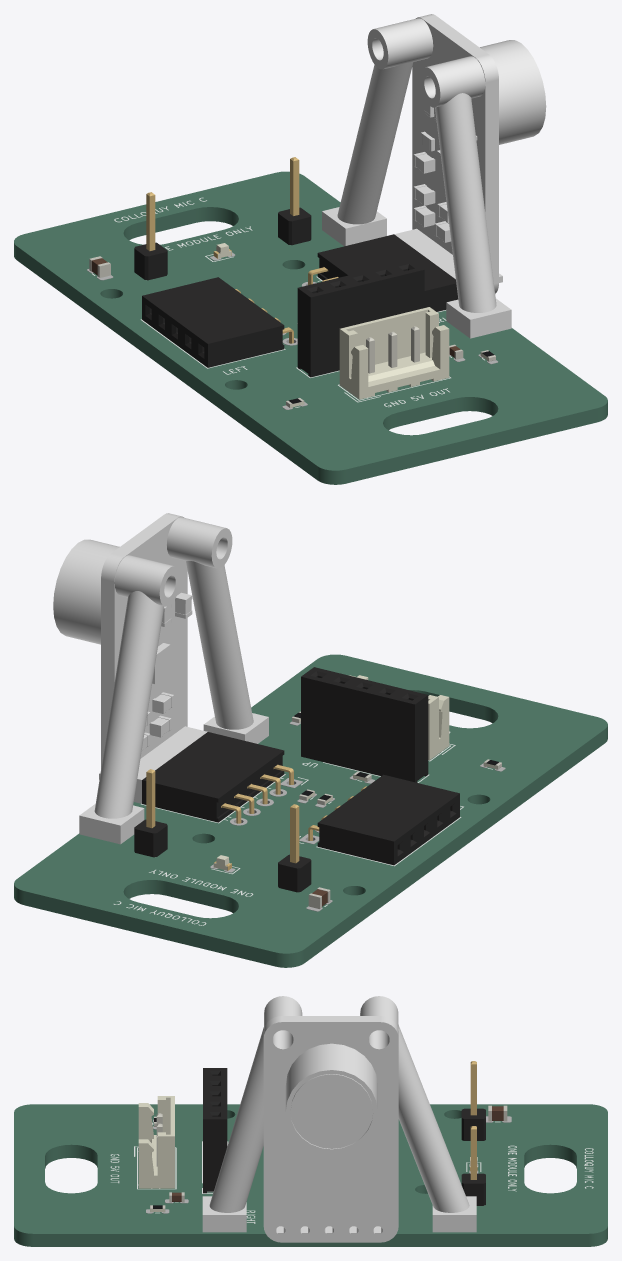
File: microphone-flex-right.glb
The picture shows the model from 3 angles, top to bottom: view 1: azimuth 30°, elevation 25°; view 2: azimuth 150°, elevation 25°; view 3: azimuth 270°, elevation 25°; orthographic projection. The views are drawn at different scales.
Visible parts, largest first — view 1: =>[0:1:1:14], VISUAL_MODULE_RIGHT (×2), J2, M1, J1, J3, TP2, TP1, =>[0:1:1:13]; view 2: =>[0:1:1:14], VISUAL_MODULE_RIGHT (×2), M1, J3, J2, TP2, TP1, J1, =>[0:1:1:13], =>[0:1:1:12]; view 3: =>[0:1:1:14], VISUAL_MODULE_RIGHT (×2), J1, M1, TP2, =>[0:1:1:13], TP1.
Boxes of the visible parts, <box> form: =>[0:1:1:14]: <box>14,171,607,484</box>; VISUAL_MODULE_RIGHT (×2): <box>322,14,546,338</box>; J2: <box>142,277,293,367</box>; M1: <box>297,260,424,377</box>; J1: <box>339,307,449,399</box>; J3: <box>308,234,458,311</box>; TP2: <box>134,192,167,280</box>; TP1: <box>278,157,311,245</box>; =>[0:1:1:13]: <box>92,197,484,407</box>; =>[0:1:1:14]: <box>14,654,607,967</box>; VISUAL_MODULE_RIGHT (×2): <box>53,513,268,844</box>; M1: <box>301,667,428,782</box>; J3: <box>142,732,293,823</box>; J2: <box>308,774,459,865</box>; TP2: <box>278,804,311,892</box>; TP1: <box>134,769,167,857</box>; J1: <box>349,675,449,760</box>; =>[0:1:1:13]: <box>113,731,492,925</box>; =>[0:1:1:12]: <box>210,721,505,911</box>; =>[0:1:1:14]: <box>14,1104,607,1246</box>; VISUAL_MODULE_RIGHT (×2): <box>202,996,476,1242</box>; J1: <box>138,1096,174,1188</box>; M1: <box>203,1068,227,1193</box>; TP2: <box>461,1061,485,1140</box>; =>[0:1:1:13]: <box>110,1121,593,1223</box>; TP1: <box>461,1126,485,1205</box>.
Size of the model in its own units: 0.0407 by 0.0286 by 0.062.
